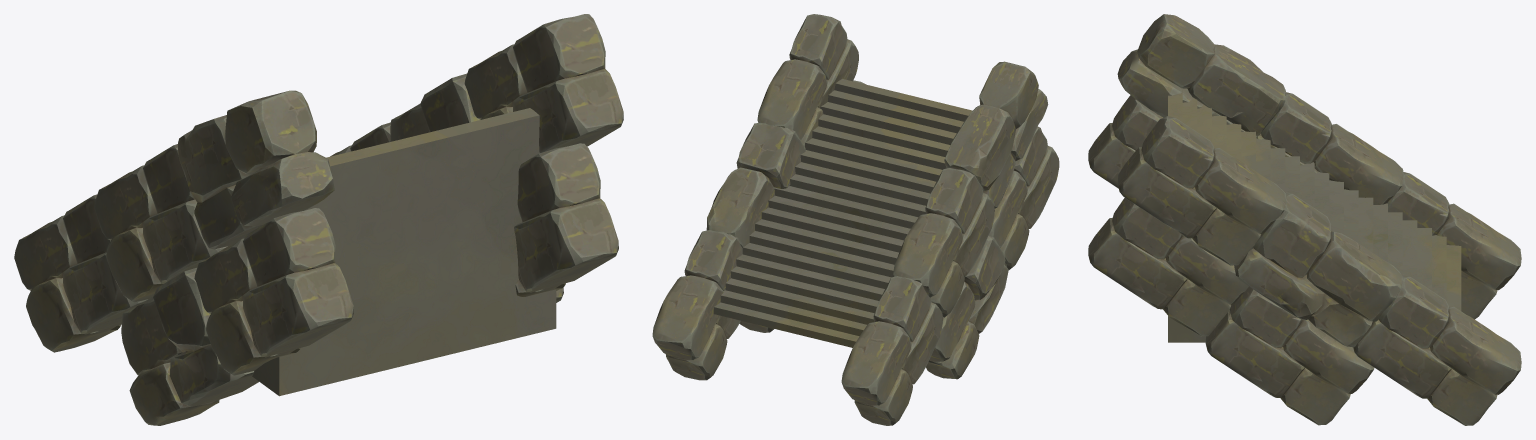
Rendered from Stairs1.fbx.
3 views of the same model, side by side, from view 1: azimuth 30°, elevation 25°; view 2: azimuth 150°, elevation 25°; view 3: azimuth 270°, elevation 25° (orthographic). The views are drawn at different scales.
Parts seen in each view (by area): view 1: Stairs (1), lowWall3 (117), lowWall3 (114), lowWall3 (119), lowWall3 (122), lowWall3 (118), lowWall3 (116), lowWall3 (115), lowWall3 (120), lowWall3 (121); view 2: Stairs (1), lowWall3 (116), lowWall3 (115), lowWall3 (121), lowWall3 (114), lowWall3 (119), lowWall3 (120), lowWall3 (118), lowWall3 (117); view 3: lowWall3 (119), lowWall3 (120), lowWall3 (121), Stairs (1), lowWall3 (123), lowWall3 (122), lowWall3 (114), lowWall3 (115), lowWall3 (116), lowWall3 (117).
Part boxes in pixels (x1,y1,x2,y2): Stairs (1): (252,108,556,396); lowWall3 (117): (194,208,353,375); lowWall3 (114): (178,90,334,249); lowWall3 (119): (464,14,623,152); lowWall3 (122): (514,143,618,296); lowWall3 (118): (121,268,258,425); lowWall3 (116): (14,194,147,352); lowWall3 (115): (94,144,227,302); lowWall3 (120): (390,73,480,141); lowWall3 (121): (330,122,390,156); Stairs (1): (713,79,972,347); lowWall3 (116): (841,276,943,425); lowWall3 (115): (893,168,994,317); lowWall3 (121): (652,230,742,380); lowWall3 (114): (944,61,1048,208); lowWall3 (119): (757,14,858,146); lowWall3 (120): (706,123,805,247); lowWall3 (118): (926,235,1008,379); lowWall3 (117): (988,126,1059,269); lowWall3 (119): (1117,116,1286,265); lowWall3 (120): (1234,192,1402,347); lowWall3 (121): (1353,275,1521,425); Stairs (1): (1168,88,1461,342); lowWall3 (123): (1205,286,1374,425); lowWall3 (122): (1088,198,1248,336); lowWall3 (114): (1117,14,1285,137); lowWall3 (115): (1256,92,1403,204); lowWall3 (116): (1387,172,1521,319); lowWall3 (117): (1088,95,1162,188).
Bounding box in the file's own units: 10.64 × 11.35 × 14.76.
3 materials, 3 textured.
